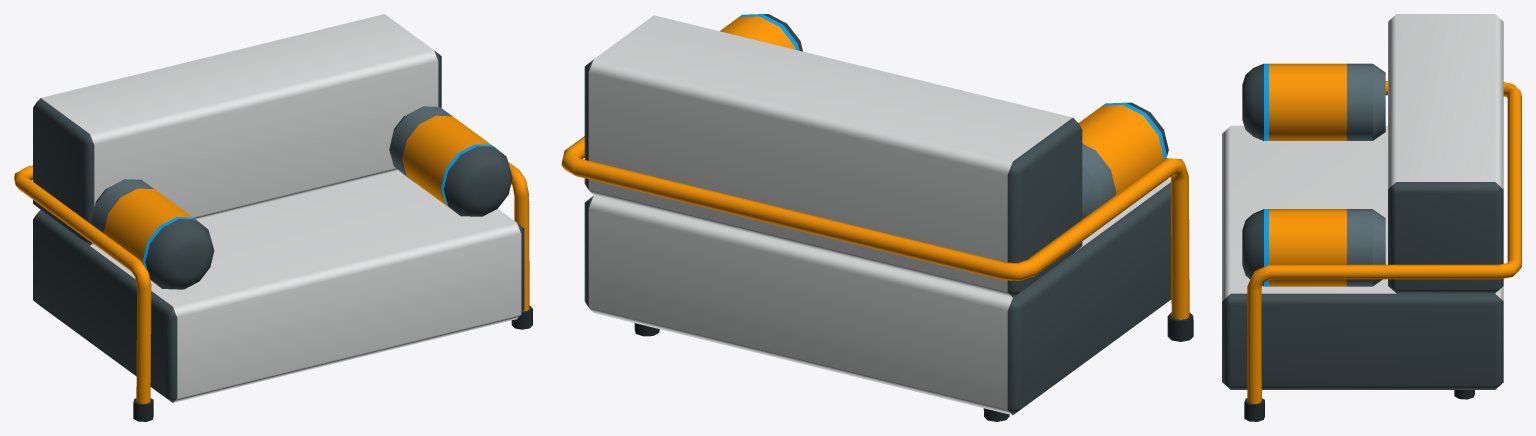
Rendered from Mini_sofa_008.glb.
3 views of the same model, side by side, from view 1: azimuth 30°, elevation 25°; view 2: azimuth 150°, elevation 25°; view 3: azimuth 270°, elevation 25° (orthographic). The views are drawn at different scales.
Parts seen in each view (by area): view 1: Mini_sofa_008; view 2: Mini_sofa_008; view 3: Mini_sofa_008.
Boxes of the visible parts, x1=… form: Mini_sofa_008: x1=14, y1=14, x2=532, y2=421; Mini_sofa_008: x1=561, y1=14, x2=1193, y2=421; Mini_sofa_008: x1=1222, y1=14, x2=1521, y2=421.
Size of the model in its own units: 1.54 by 0.8424 by 1.01.
Materials: 2 (2 with a texture image).
